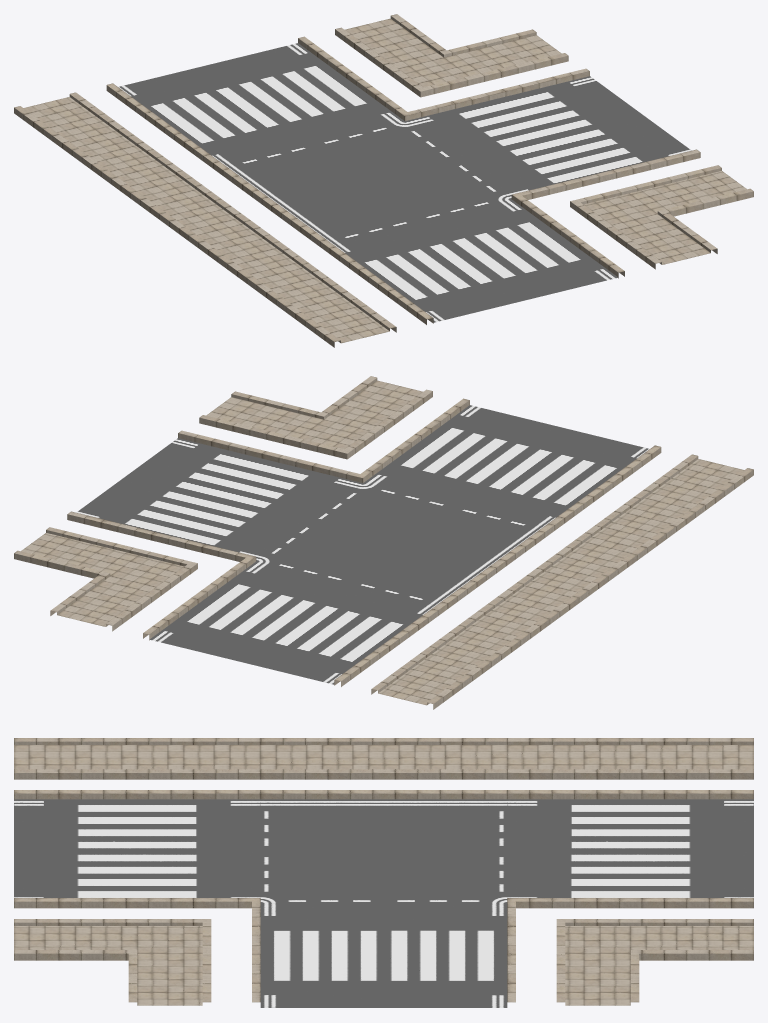
Rendered from CrossT.FBX.
The picture shows the model from 3 angles, top to bottom: view 1: azimuth 30°, elevation 25°; view 2: azimuth 150°, elevation 25°; view 3: azimuth 270°, elevation 25°; orthographic projection. The views are drawn at different scales.
Visible parts, largest first — view 1: CrossT; view 2: CrossT; view 3: CrossT.
Part boxes in pixels (box(x1,y1,x2,y2)): CrossT: box(14, 14, 753, 347); CrossT: box(14, 376, 753, 709); CrossT: box(14, 738, 753, 1007).
Size of the model in its own units: 25.35 by 0.3 by 30.
Materials: 3 (3 with a texture image).
